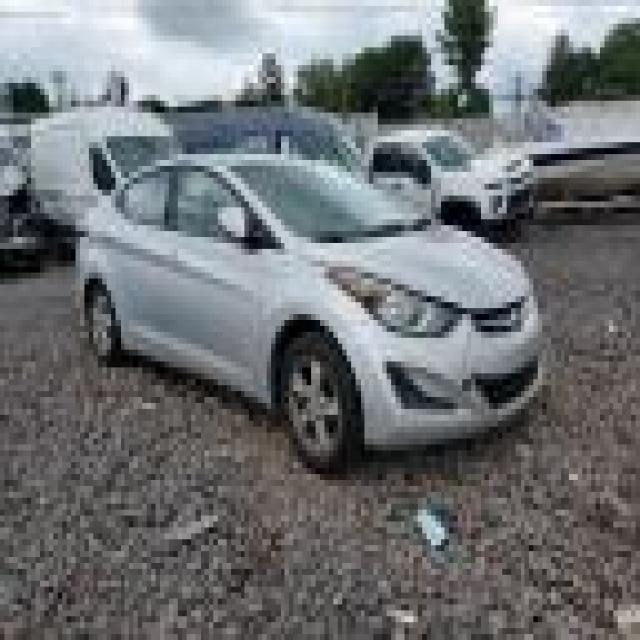minor: (455, 341, 473, 430)
